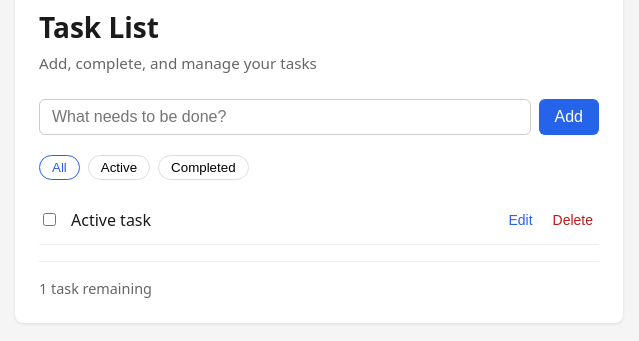
Test case: App › shows empty-state messages for filtered views
The image size is (639, 341).
Check: the text "Active task" is shown, box [71,209,151,231]
What coordinates should you click on to do the following:
click the button "Completed"
I would click on:
 (203, 167)
Its box is [158,155,249,180].
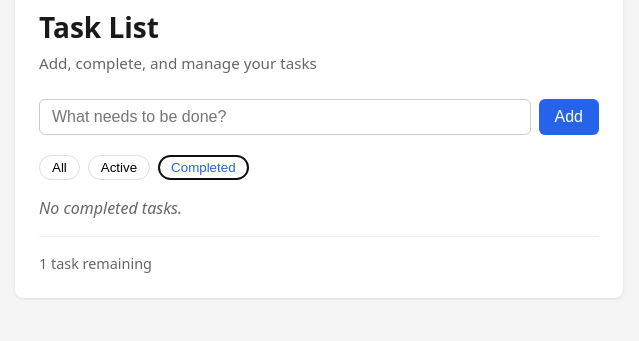
Check: the text "No completed tasks." is shown, box [39,197,182,219]
What coordinates should you click on to do the following:
click the button "Active"
I would click on:
 (119, 167)
Its box is [88,155,150,180].
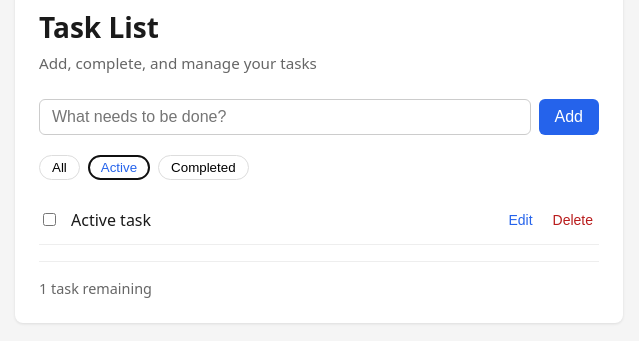
Check: the text "Active task" is shown, box [71,209,151,231]
